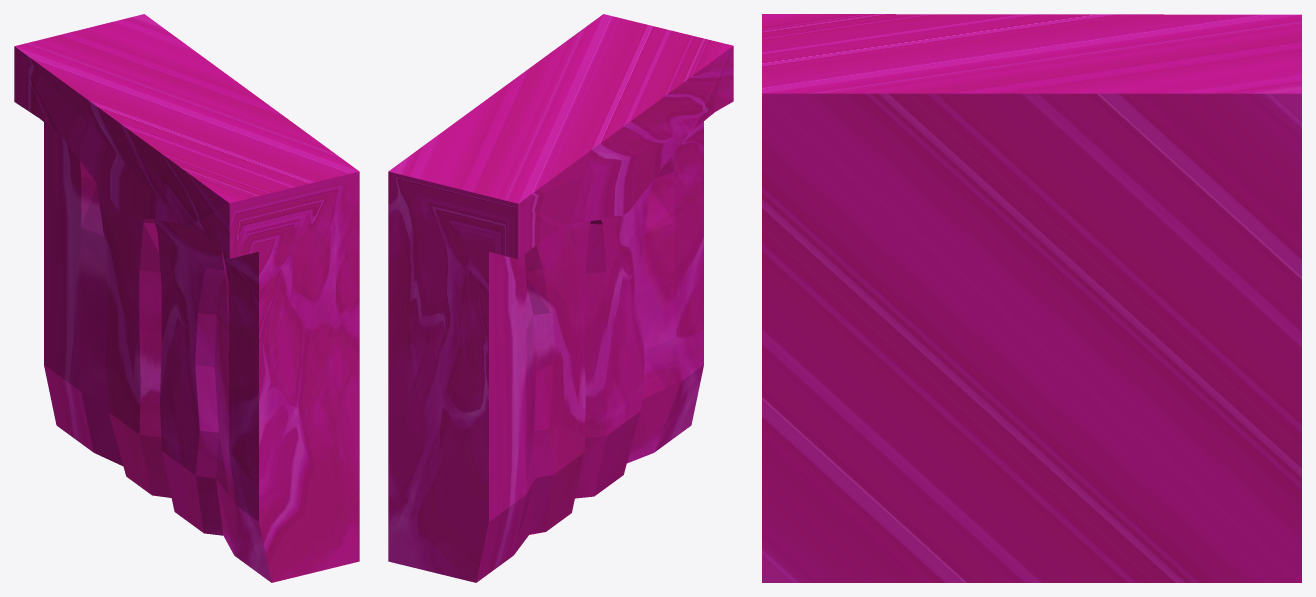
The model's file is EspacioPornoParedExteriorNI.gltf.
The picture shows the model from 3 angles, left to right: view 1: azimuth 30°, elevation 25°; view 2: azimuth 150°, elevation 25°; view 3: azimuth 270°, elevation 25°; orthographic projection. The views are drawn at different scales.
Visible parts, largest first — view 1: Cubo.23; view 2: Cubo.23; view 3: Cubo.23.
Boxes of the visible parts, <box> form: Cubo.23: <box>14,14,359,582</box>; Cubo.23: <box>388,14,733,582</box>; Cubo.23: <box>762,14,1301,582</box>.
Bounding box in the file's own units: 0.7053 × 2 × 2.
Materials: 1 (1 with a texture image).
